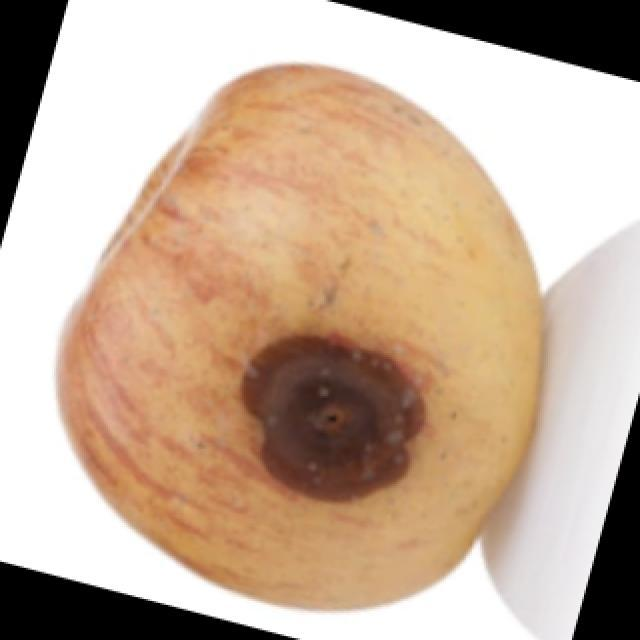Rotten: (96, 77, 536, 623)
